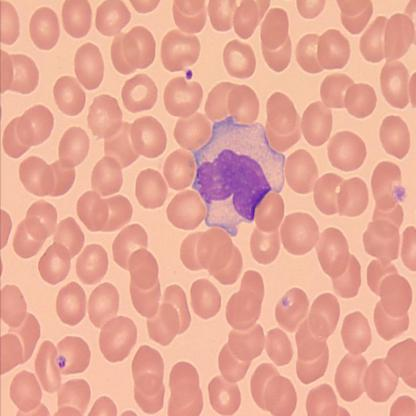Atypical lymphocyte: (193, 119, 286, 231)
